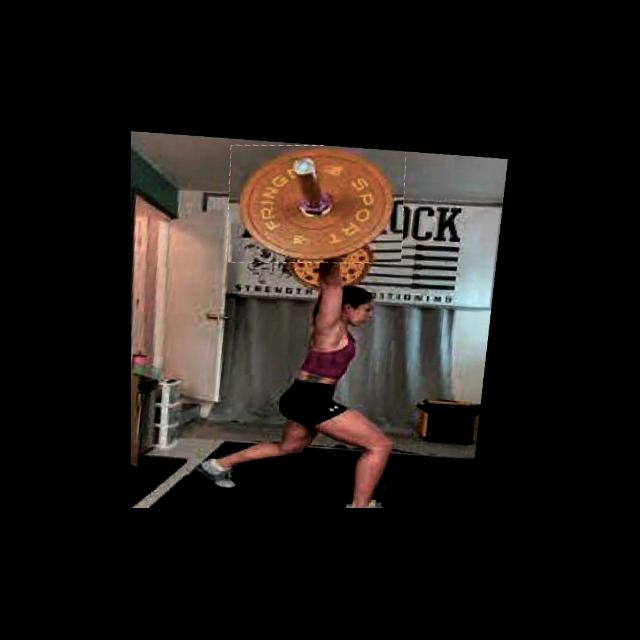barbell: (222, 137, 411, 267)
